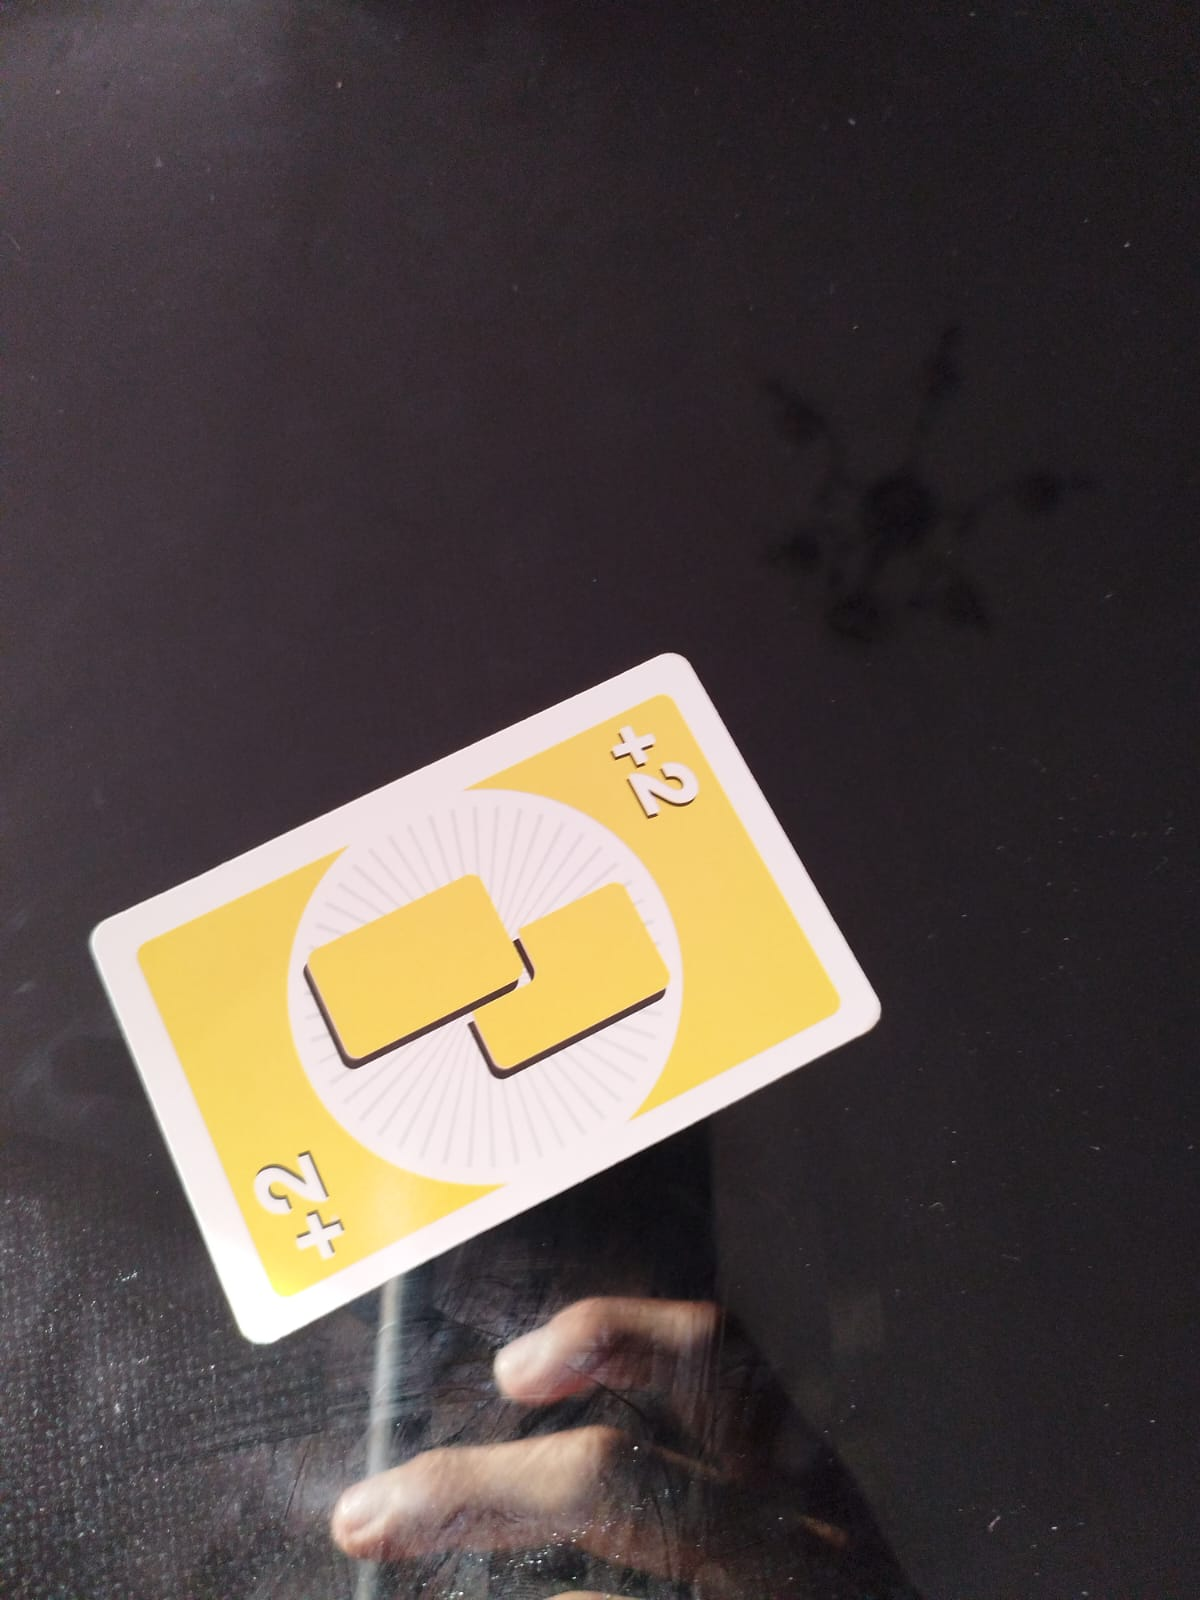skip_yellow: (253, 1143, 347, 1256), (608, 719, 698, 819)
